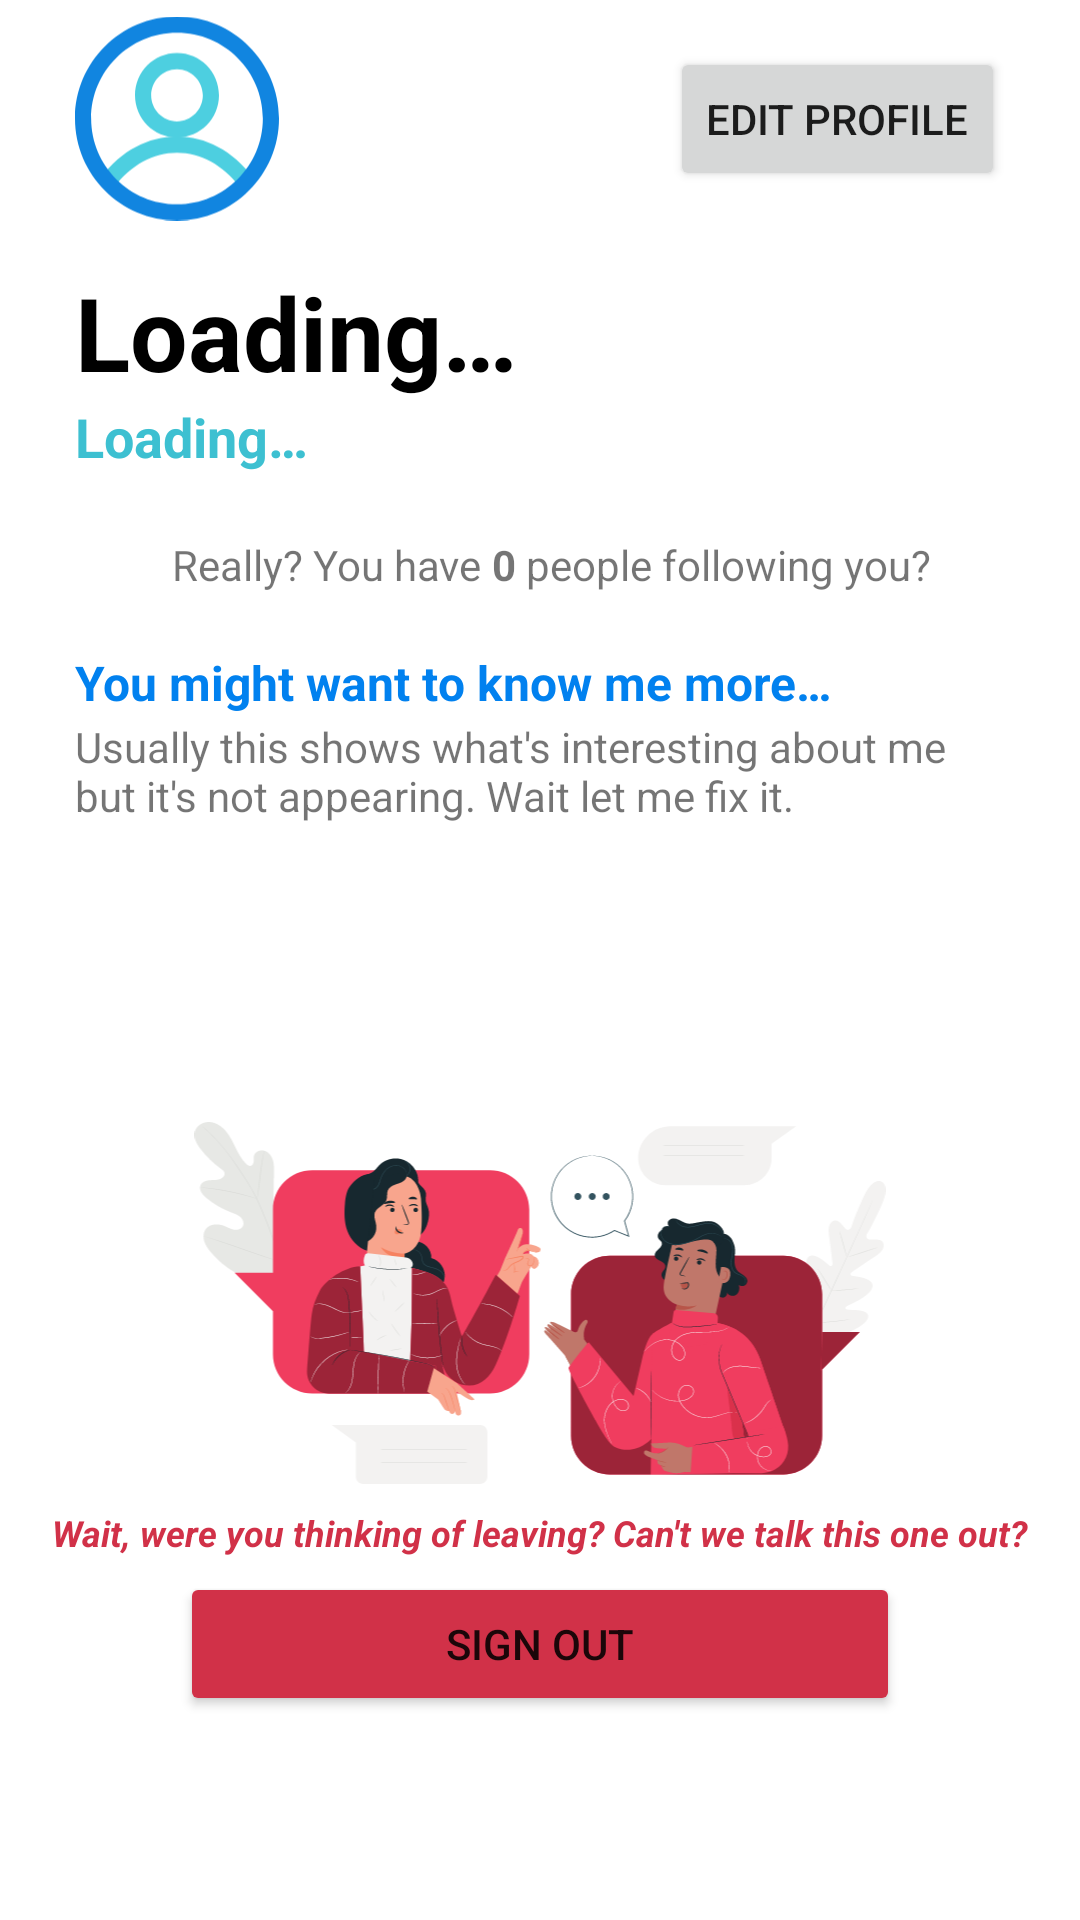

Point at icon controls on the screen. Image size 1080px×1920px, points as (x=x, y=y).
the PFP of the user: (x=177, y=119)
